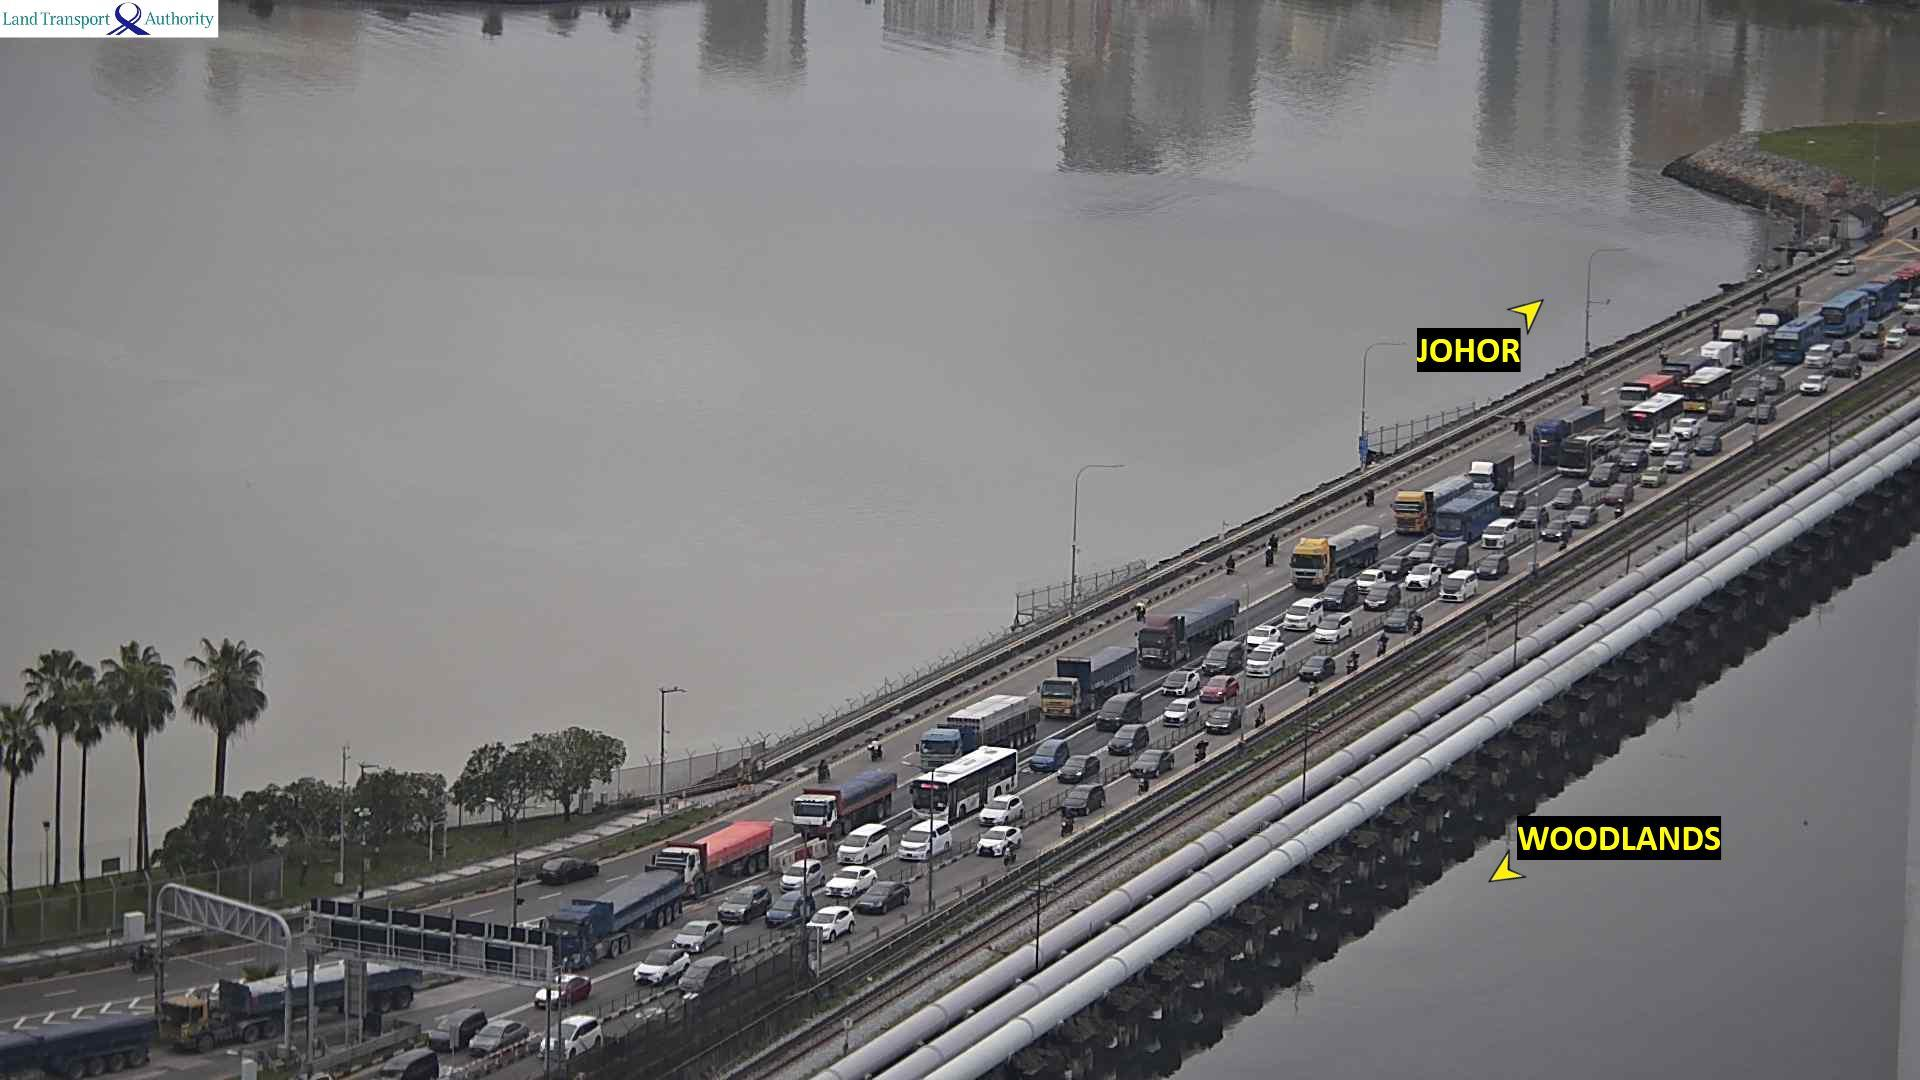vehicle-causeway-johor: (534, 863, 597, 888), (1833, 258, 1856, 276), (1265, 532, 1278, 563), (866, 741, 882, 762), (1515, 411, 1529, 434), (1363, 485, 1374, 509), (1222, 552, 1234, 572)
vehicle-causeway-singapore: (149, 959, 413, 1037), (553, 870, 680, 962), (922, 691, 1041, 767), (1, 1022, 151, 1080), (923, 747, 1036, 819), (678, 820, 774, 890), (798, 774, 894, 838), (1143, 601, 1237, 666), (1051, 648, 1136, 716), (1295, 527, 1380, 587), (1533, 404, 1605, 463), (1435, 491, 1498, 544), (541, 1013, 602, 1059), (1557, 430, 1620, 473), (1772, 315, 1824, 361), (471, 1019, 533, 1056), (427, 1008, 488, 1044), (536, 973, 594, 1010), (839, 824, 889, 866), (1619, 397, 1684, 428), (680, 957, 733, 995), (1683, 370, 1733, 410), (375, 1052, 444, 1080), (852, 884, 911, 915), (1398, 494, 1441, 536), (1824, 292, 1864, 334), (1623, 376, 1678, 405), (722, 887, 770, 920), (669, 926, 725, 954), (1473, 452, 1515, 489), (1095, 694, 1142, 727), (807, 905, 855, 936), (1724, 328, 1770, 360), (1759, 301, 1799, 337), (782, 860, 825, 893), (822, 874, 882, 897), (632, 960, 687, 985), (1247, 642, 1285, 676), (770, 894, 810, 925), (974, 831, 1017, 858), (899, 839, 950, 861), (1861, 278, 1894, 312), (1066, 783, 1106, 811), (1285, 598, 1319, 630), (1110, 724, 1146, 754), (1205, 704, 1244, 731), (1134, 748, 1171, 776), (1435, 542, 1472, 570), (1317, 614, 1352, 642), (1060, 755, 1099, 779), (1405, 564, 1441, 590), (1483, 519, 1516, 547), (1441, 572, 1475, 599), (1477, 553, 1511, 580), (1034, 740, 1066, 768), (1896, 260, 1920, 297), (1203, 677, 1241, 700), (1370, 583, 1397, 614), (1323, 579, 1355, 605), (1300, 653, 1334, 677), (1165, 670, 1197, 695), (1496, 489, 1529, 513), (1164, 700, 1194, 726), (1387, 605, 1417, 628), (1567, 504, 1597, 526), (1693, 433, 1720, 457), (1248, 625, 1280, 645), (1589, 461, 1615, 484), (1651, 432, 1679, 453), (1517, 506, 1547, 525), (1664, 455, 1695, 473), (1411, 540, 1435, 563), (1544, 521, 1573, 540), (1554, 485, 1581, 505), (1833, 354, 1859, 374), (1801, 373, 1825, 394), (1808, 343, 1828, 368), (1604, 482, 1628, 502), (1710, 400, 1734, 420), (1737, 384, 1761, 404), (1748, 403, 1772, 421), (1861, 322, 1885, 340), (1856, 343, 1880, 360), (1907, 314, 1920, 344), (1673, 419, 1697, 435), (1763, 374, 1786, 390), (1250, 701, 1264, 727), (1194, 736, 1207, 761), (1831, 336, 1849, 352), (1902, 296, 1920, 311), (1888, 329, 1905, 344), (1349, 649, 1361, 669), (1412, 613, 1422, 632), (1379, 633, 1388, 653)
